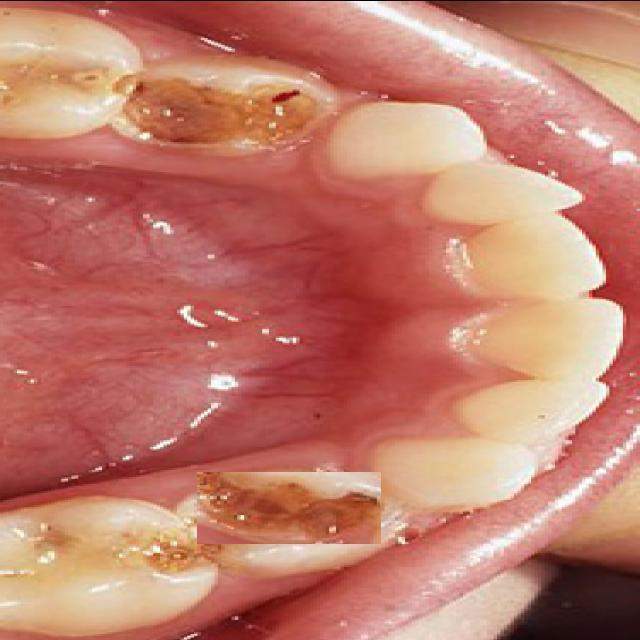decay: (119, 77, 335, 145), (198, 471, 382, 543)
